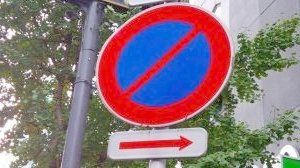Prohibition_sign: (85, 6, 242, 131)
